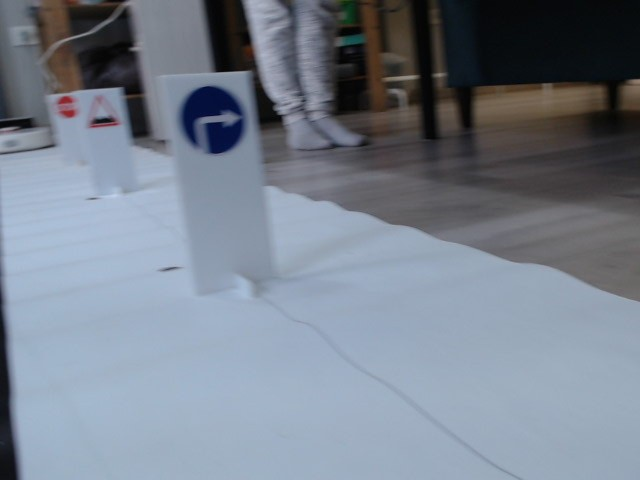Nerov: (84, 96, 120, 127)
Right: (179, 85, 246, 156)
